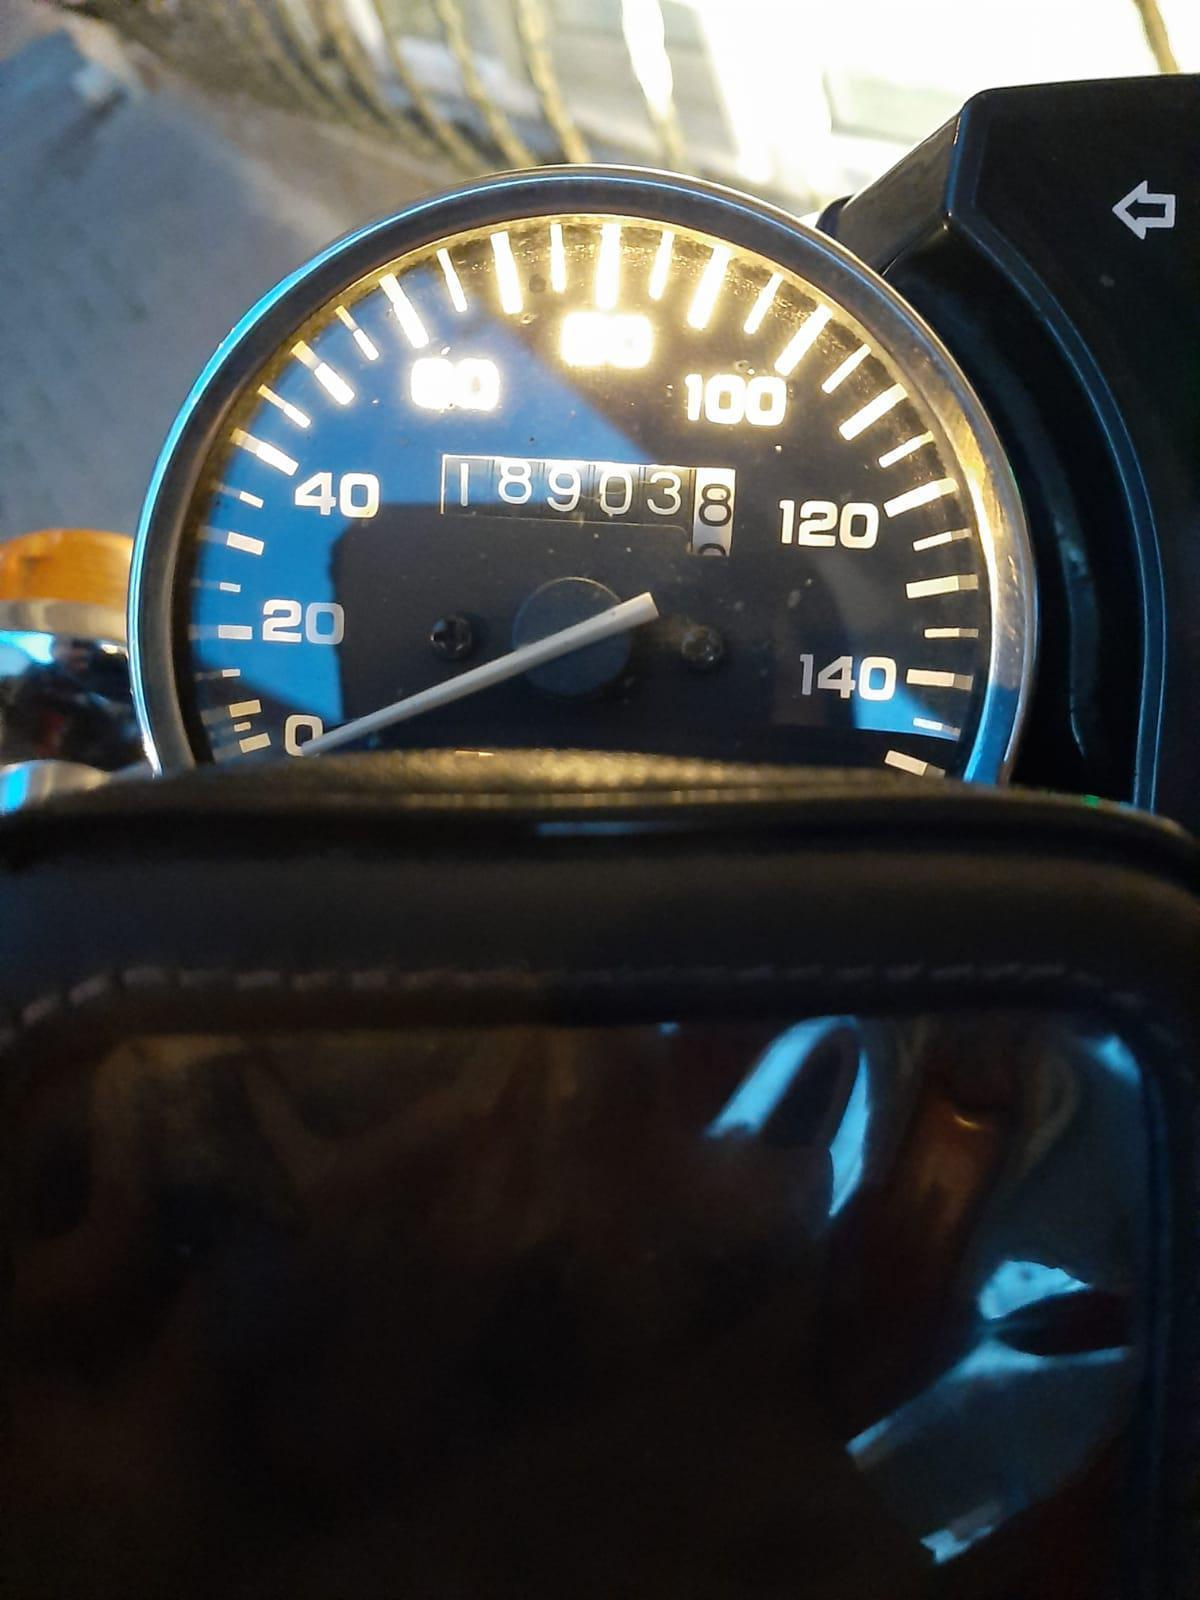0: (596, 467, 632, 517)
1: (458, 459, 471, 506)
3: (647, 471, 683, 517)
8: (697, 480, 740, 529), (495, 457, 534, 506)
9: (545, 464, 584, 513)
odometer: (432, 443, 756, 569)
